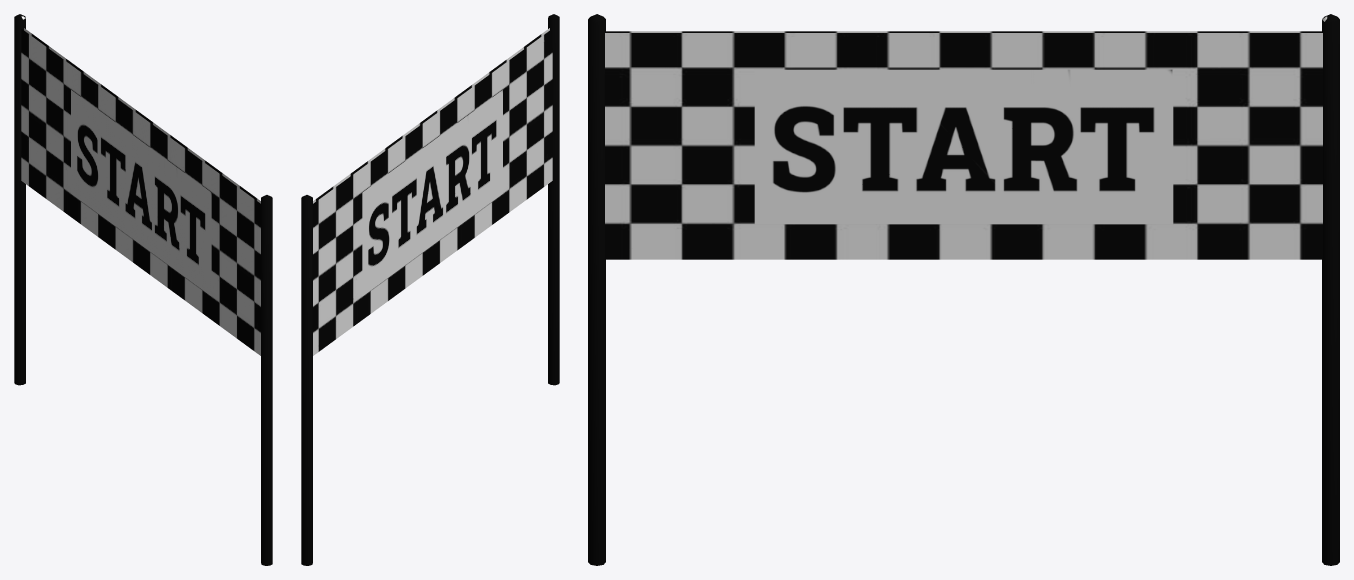
The model's file is Start Flag.fbx.
3 renders of one model, left to right at view 1: azimuth 30°, elevation 25°; view 2: azimuth 150°, elevation 25°; view 3: azimuth 270°, elevation 25°, orthographic. The views are drawn at different scales.
Visible parts, largest first — view 1: Start Flag.001; view 2: Start Flag.001; view 3: Start Flag.001.
Boxes of the visible parts, <box> form: Start Flag.001: <box>14,14,272,565</box>; Start Flag.001: <box>301,14,559,565</box>; Start Flag.001: <box>588,14,1339,565</box>.
Bounding box in the file's own units: 5.12 × 0.1229 × 4.12.
